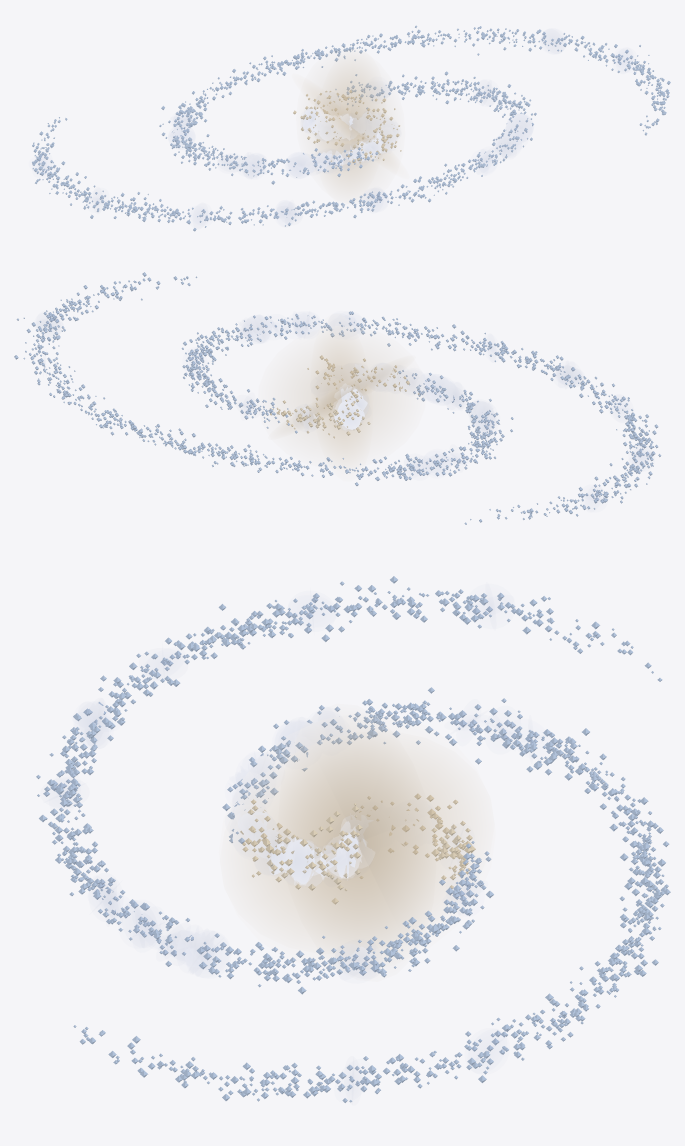
3 renders of one model, top to bottom at view 1: azimuth 30°, elevation 25°; view 2: azimuth 150°, elevation 25°; view 3: azimuth 270°, elevation 25°, orthographic. The views are drawn at different scales.
Size of the model in its own units: 7.2 by 1.78 by 3.86.
